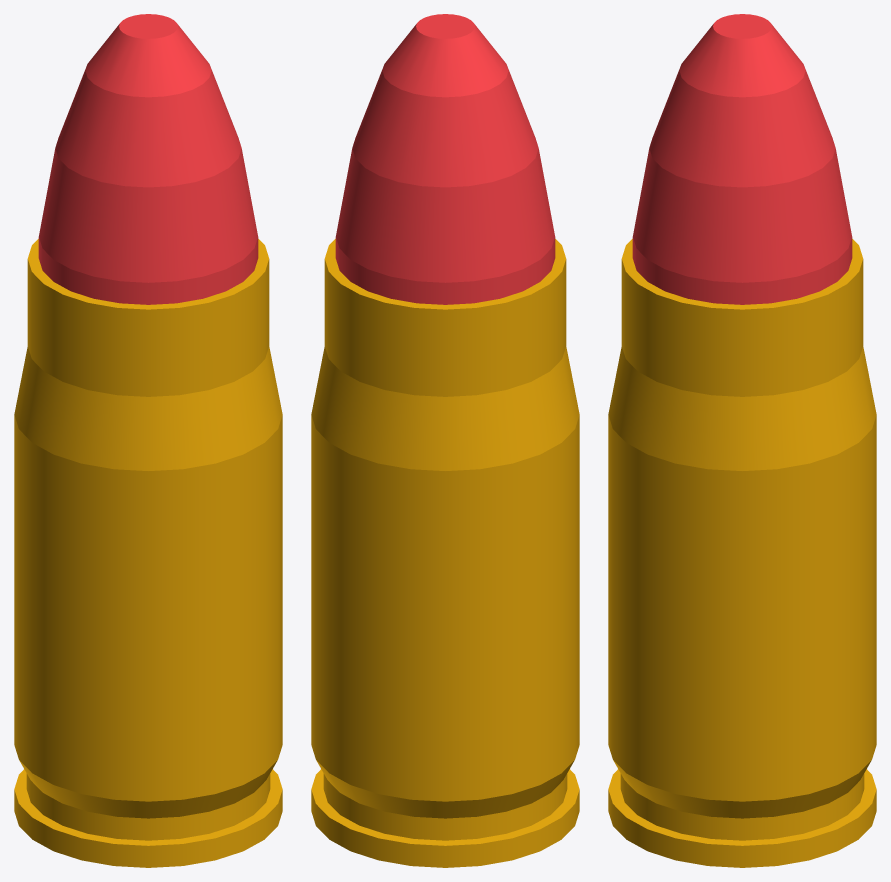
The model's file is ammo_sniper.obj.
The picture shows the model from 3 angles, left to right: view 1: azimuth 30°, elevation 25°; view 2: azimuth 150°, elevation 25°; view 3: azimuth 270°, elevation 25°; orthographic projection.
Visible parts, largest first — view 1: Group; view 2: Group; view 3: Group.
Part boxes in pixels (left/top/right/bottom): Group: left=14, top=14, right=282, bottom=867; Group: left=311, top=14, right=579, bottom=867; Group: left=608, top=14, right=876, bottom=867.
Bounding box in the file's own units: 0.0421 × 0.1359 × 0.0421.
